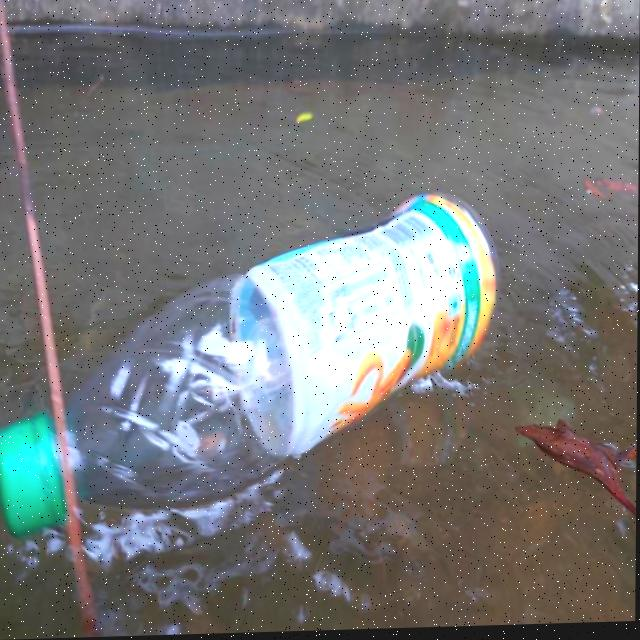leaf: (522, 407, 638, 560)
waterbottle: (0, 176, 521, 549)
